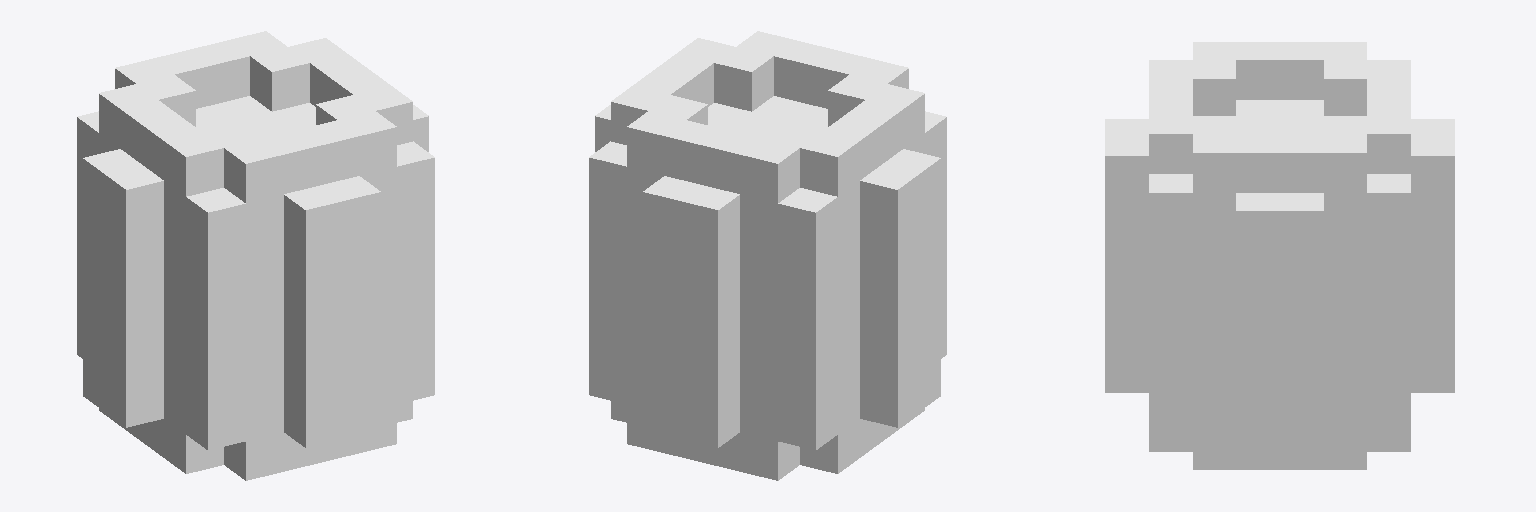
Rendered from barrel.vox.obj.
3 views of the same model, side by side, from view 1: azimuth 30°, elevation 25°; view 2: azimuth 150°, elevation 25°; view 3: azimuth 270°, elevation 25° (orthographic).
Parts seen in each view (by area): view 1: object 1; view 2: object 1; view 3: object 1.
Boxes of the visible parts, x1,y1,x2,y2 form: object 1: [77, 31, 434, 480]; object 1: [589, 31, 946, 480]; object 1: [1105, 42, 1454, 469].
Bounding box in the file's own units: 0.8 × 0.8 × 0.8.